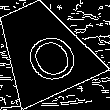O_NW: (8, 17, 77, 82)
